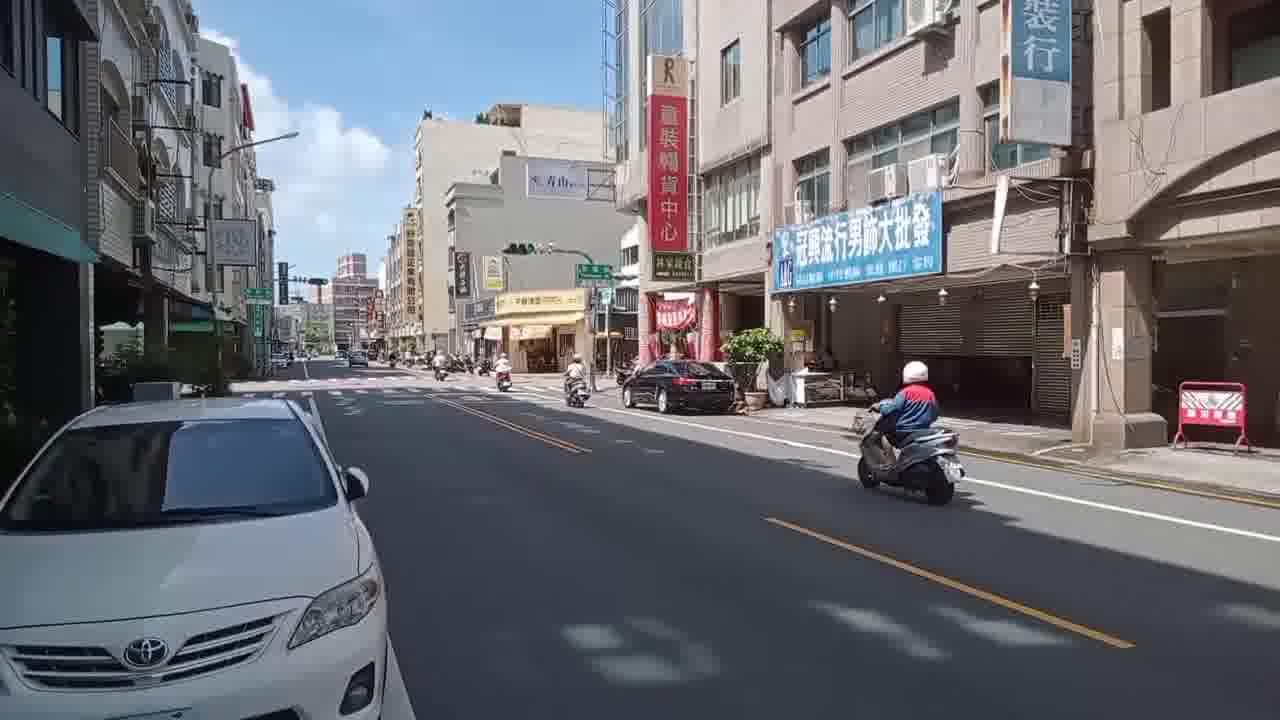driver: (843, 355, 974, 516)
helmet: (903, 360, 929, 385)
